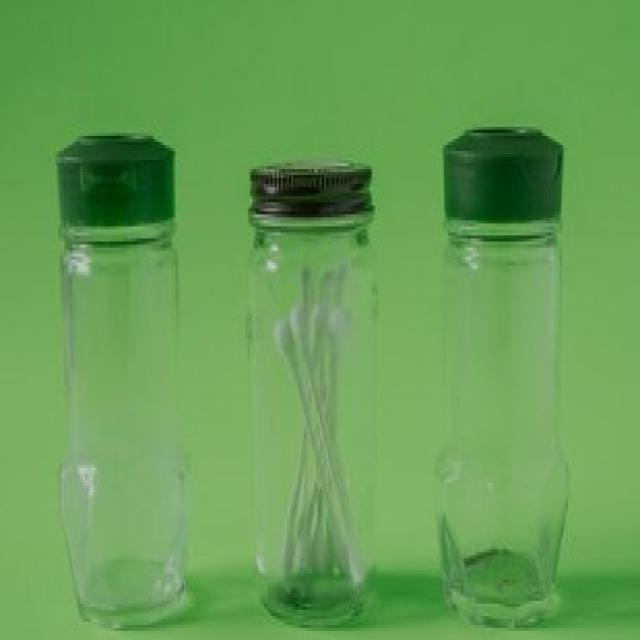electronic: (57, 129, 570, 630)
